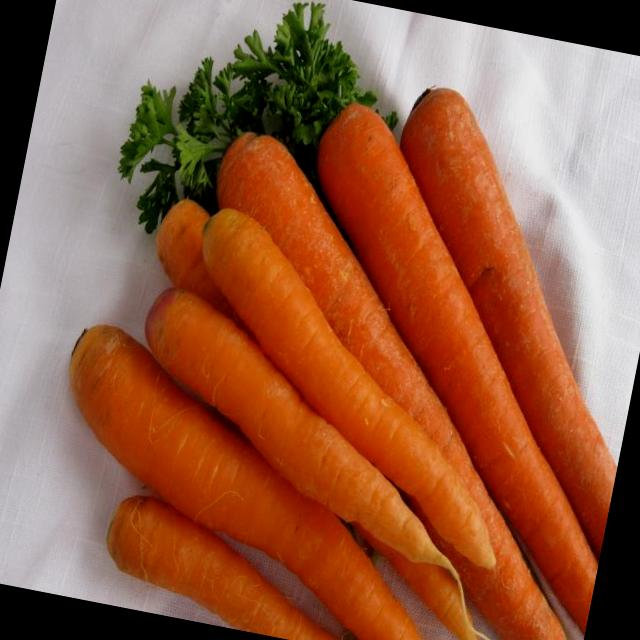carrot: (315, 105, 597, 628), (65, 320, 424, 640), (201, 204, 498, 568), (397, 88, 616, 544), (147, 287, 433, 561), (106, 497, 352, 640)
